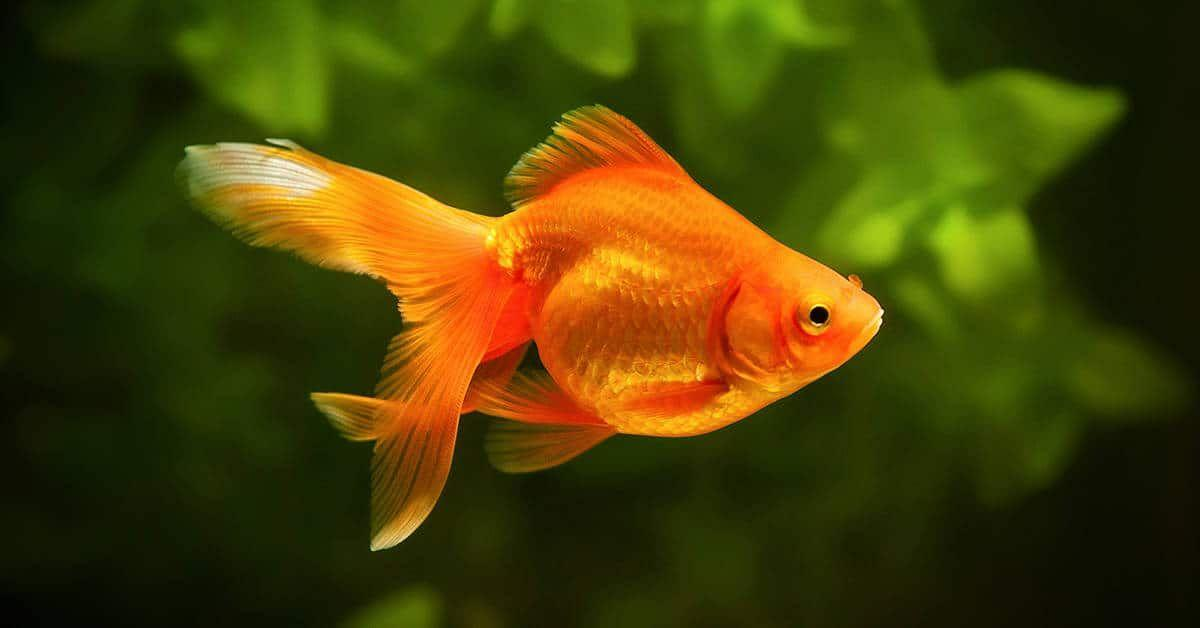Gold Fish: (179, 103, 885, 552)
